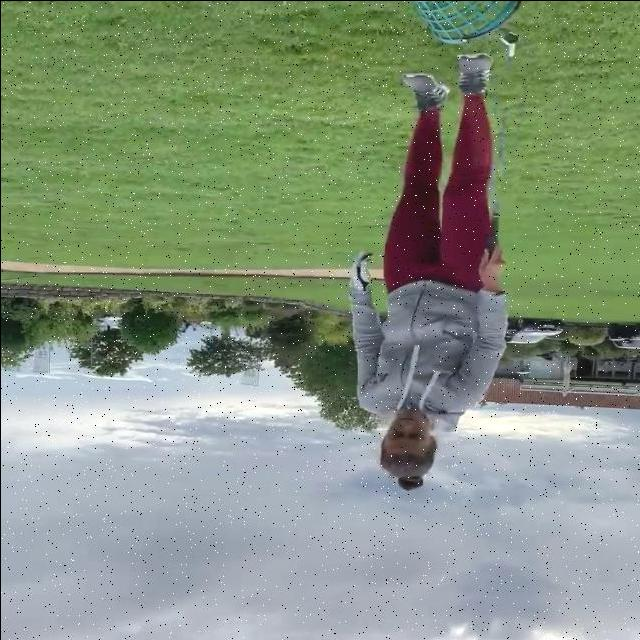ClubHandle: (486, 31, 519, 252)
ClubHead: (499, 32, 518, 44)
